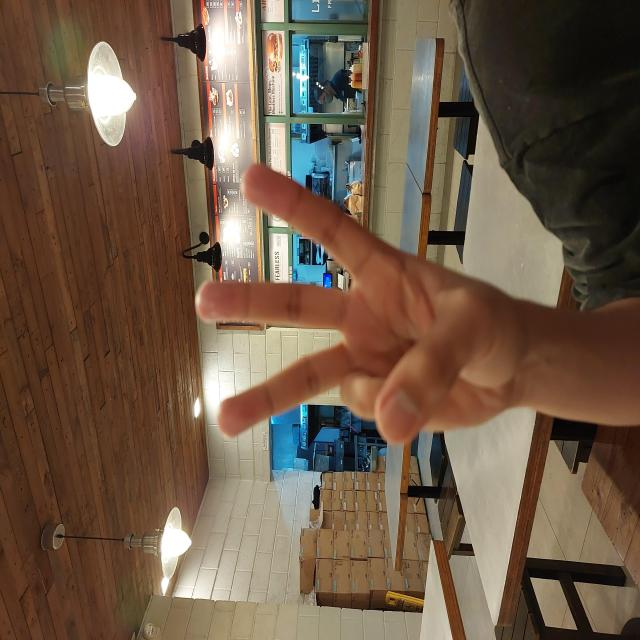W: (191, 193, 479, 524)
